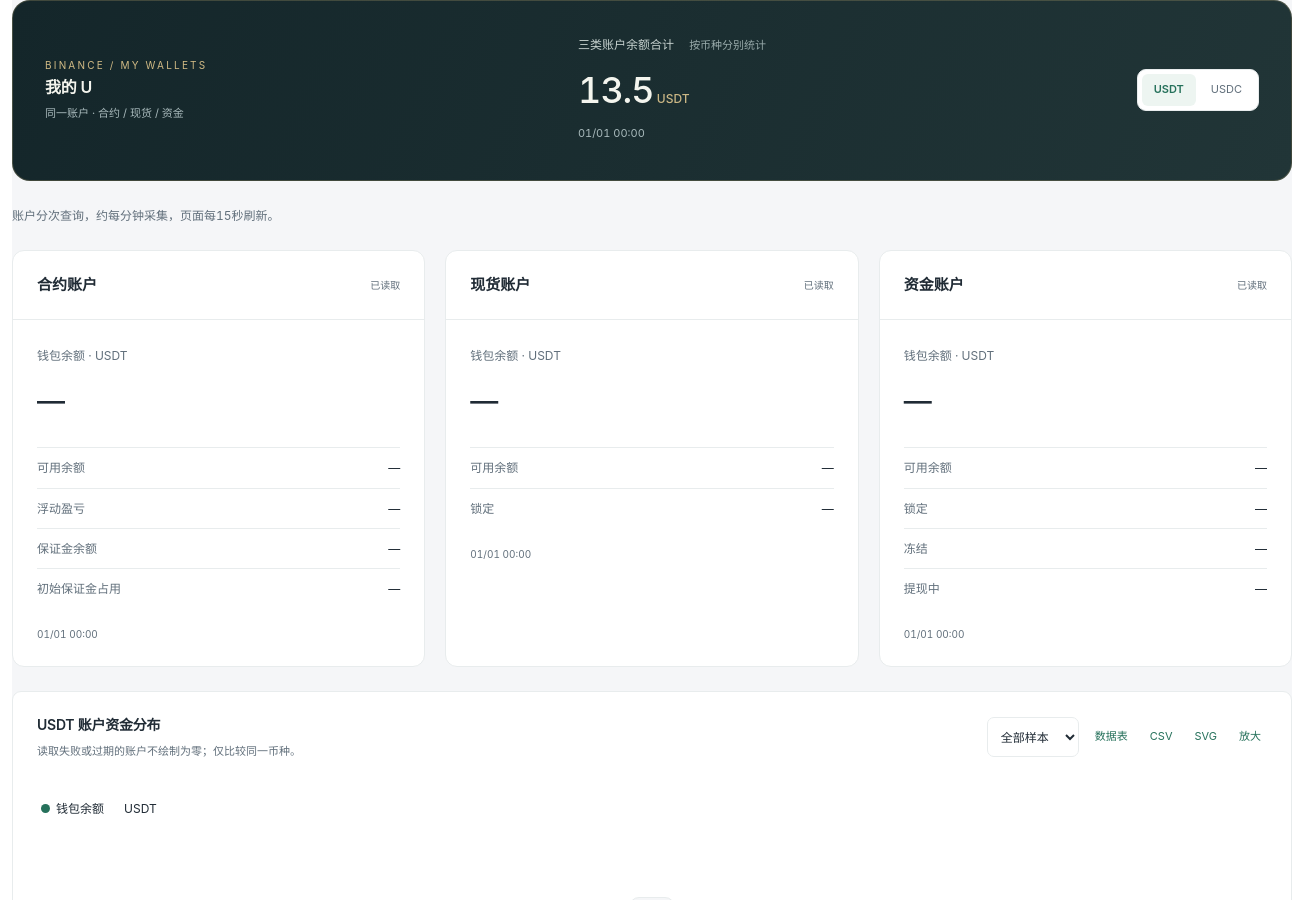
Test: account stablecoin overview › switches currencies without converting or combining USDT and USDC
The width and height of the screenshot is (1292, 900).
Expected: the text "13.5" is shown, top-left (578, 68), bottom-right (654, 112)
Expected: the text "99.8" is not shown
Click the button "USDC" at (1226, 90), box top-left (1199, 74), bottom-right (1254, 106)
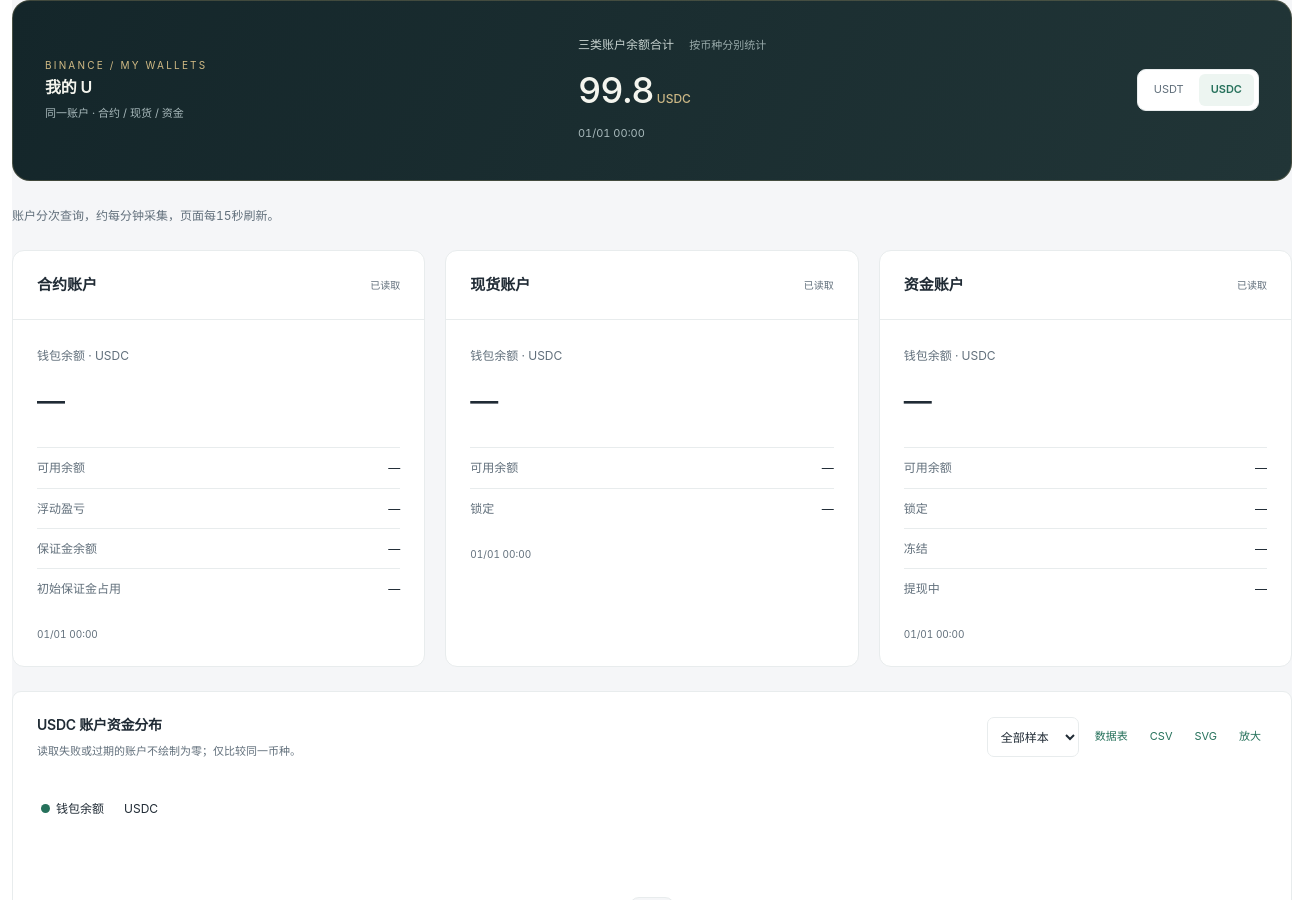
Now the text "99.8" is shown, box top-left (578, 68), bottom-right (654, 112)
